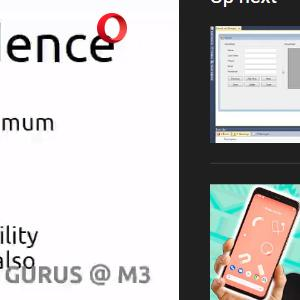opera: (96, 13, 128, 43)
